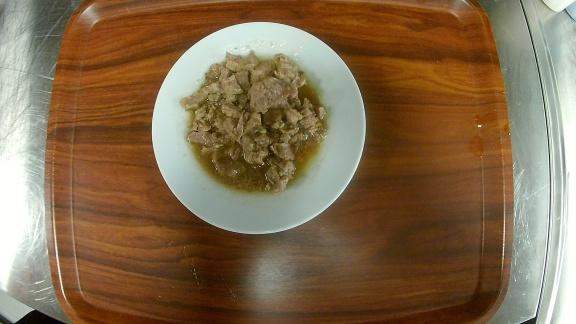etsote: (149, 21, 367, 235)
